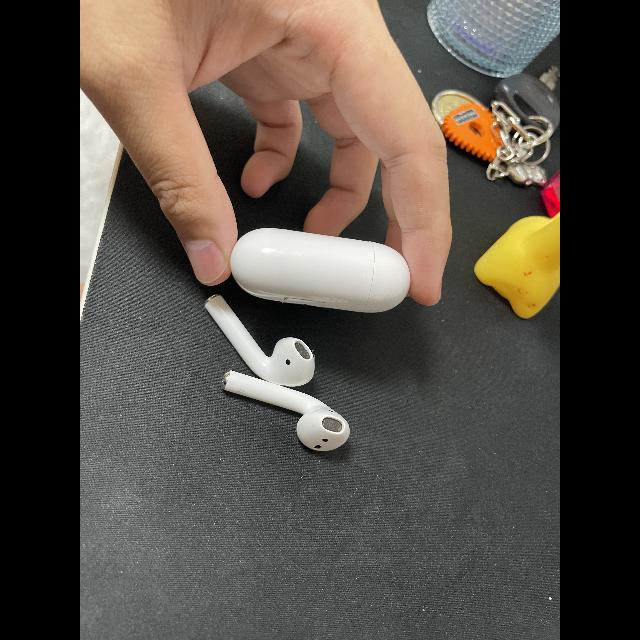airpod2: (204, 211, 416, 459)
